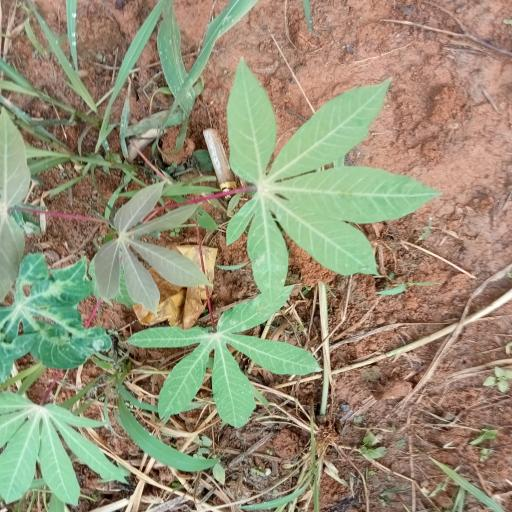Cassava_Mosaic: (228, 67, 428, 290), (140, 298, 326, 431), (97, 182, 199, 308), (3, 391, 116, 500), (0, 256, 90, 379)
